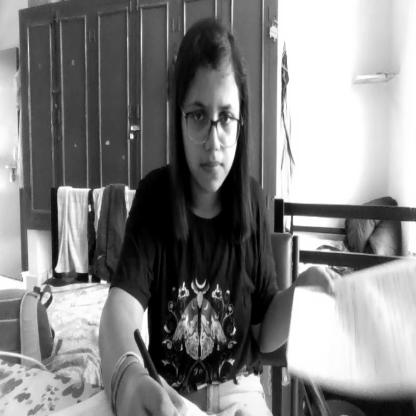Normal: (174, 23, 244, 200)
